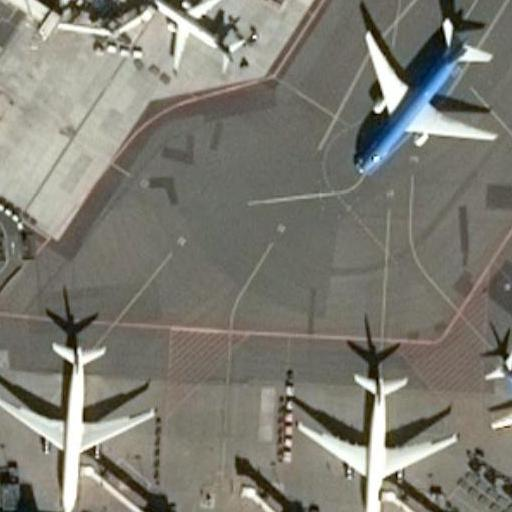Aircraft: (0, 335, 157, 512), (336, 8, 500, 176), (288, 362, 458, 512), (144, 0, 243, 72), (479, 337, 512, 456)
